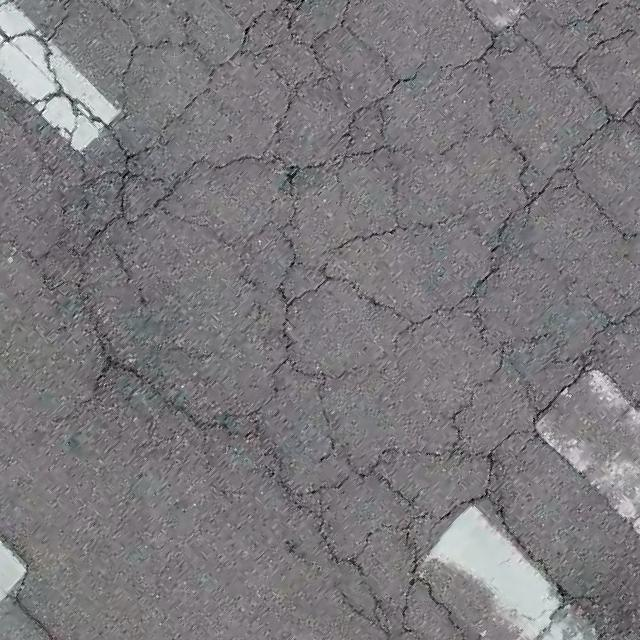GRIETA: (15, 596, 60, 639)
PIEL DE COCODRILO: (0, 0, 639, 639)
